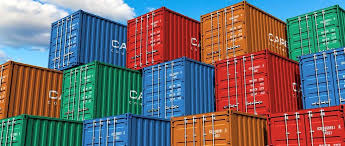container_door: (214, 48, 268, 111), (200, 1, 246, 65), (287, 5, 339, 58), (300, 50, 345, 109), (142, 63, 185, 120), (127, 7, 166, 69), (59, 64, 101, 121), (48, 11, 79, 72)
